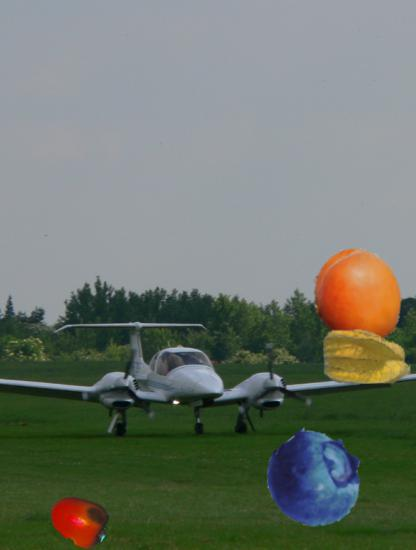Apricot: (307, 247, 408, 348)
Banana: (314, 264, 371, 321)
Huckleberry: (268, 432, 363, 527)
Kaki: (50, 490, 110, 550)
Physalis: (322, 312, 412, 402)
